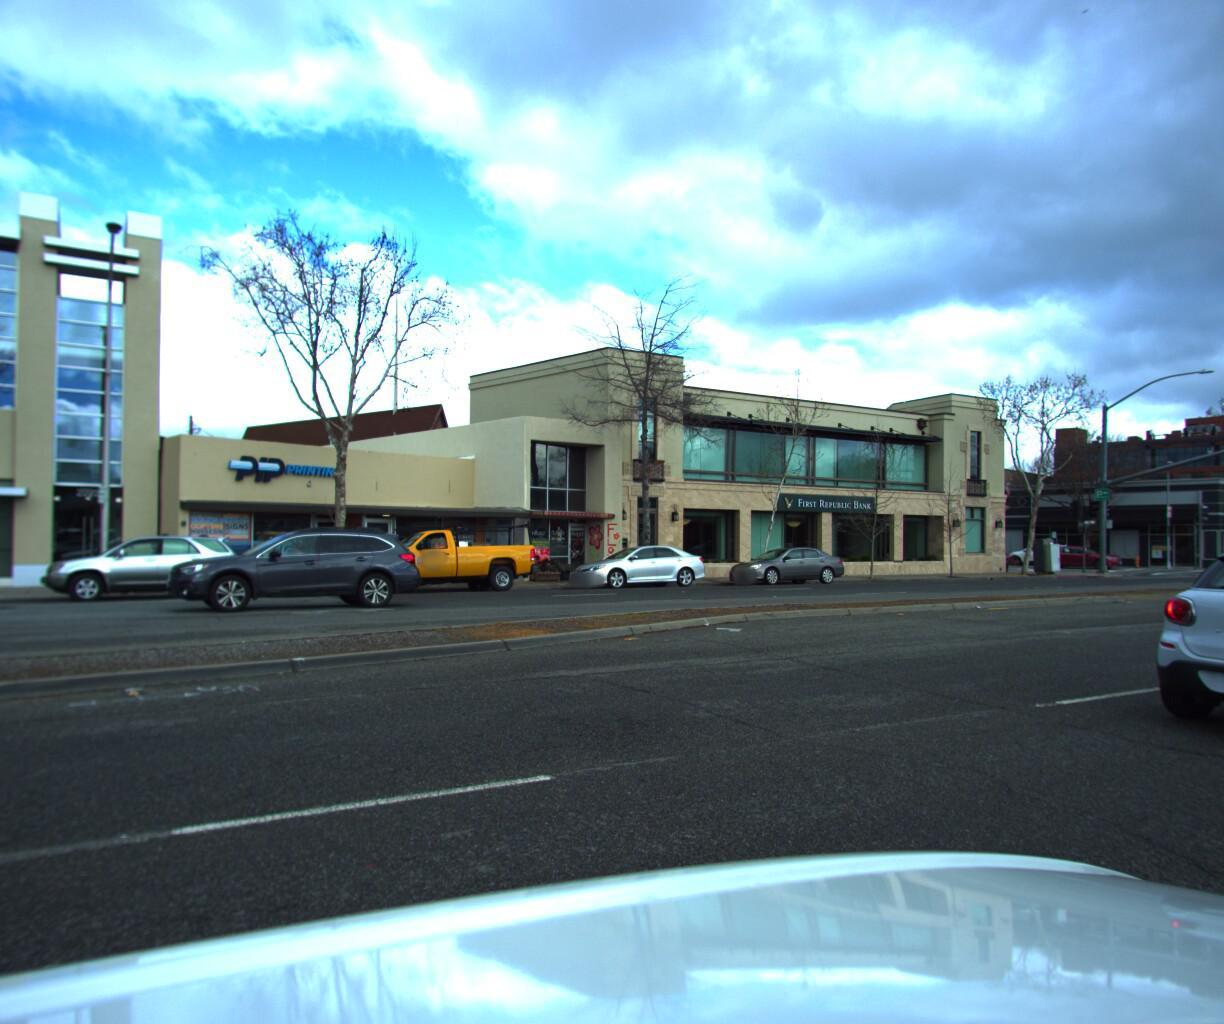car: (1119, 527, 1224, 778), (150, 519, 417, 614), (28, 531, 264, 607), (334, 516, 539, 595), (557, 540, 708, 590), (713, 541, 847, 586), (1033, 539, 1120, 565), (1001, 538, 1072, 563)
